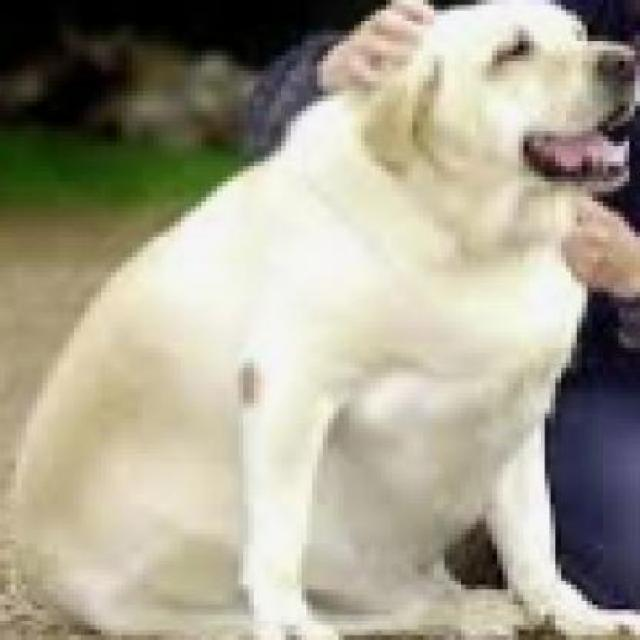Dog: (11, 0, 634, 635)
